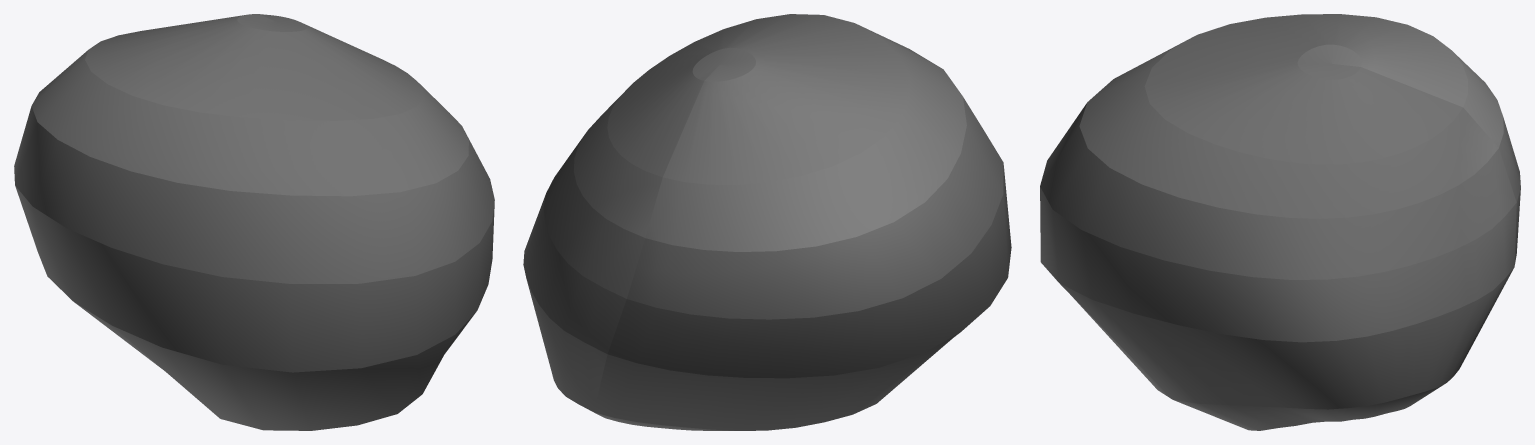
File: Small Stone2.fbx
3 renders of one model, left to right at view 1: azimuth 30°, elevation 25°; view 2: azimuth 150°, elevation 25°; view 3: azimuth 270°, elevation 25°, orthographic. The views are drawn at different scales.
Visible parts, largest first — view 1: SmallStone2; view 2: SmallStone2; view 3: SmallStone2.
Part boxes in pixels (bbox=[...]): SmallStone2: bbox=[14, 14, 494, 430]; SmallStone2: bbox=[523, 14, 1011, 430]; SmallStone2: bbox=[1040, 14, 1520, 430].
Bounding box in the file's own units: 1.1 × 0.9296 × 1.19.
Materials: 1 (1 with a texture image).
